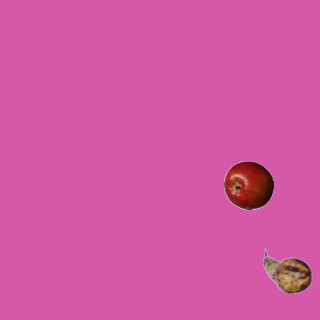Apple Braeburn: (223, 160, 273, 210)
Pear Abate: (262, 246, 312, 296)
